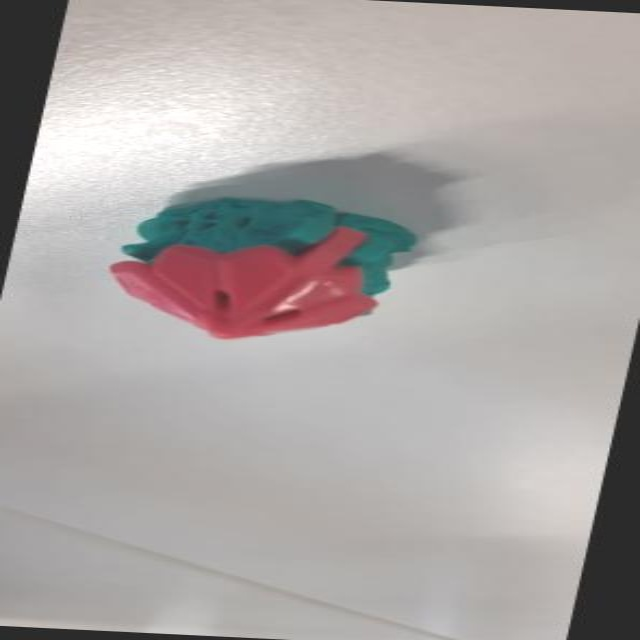House: (97, 192, 437, 350)
